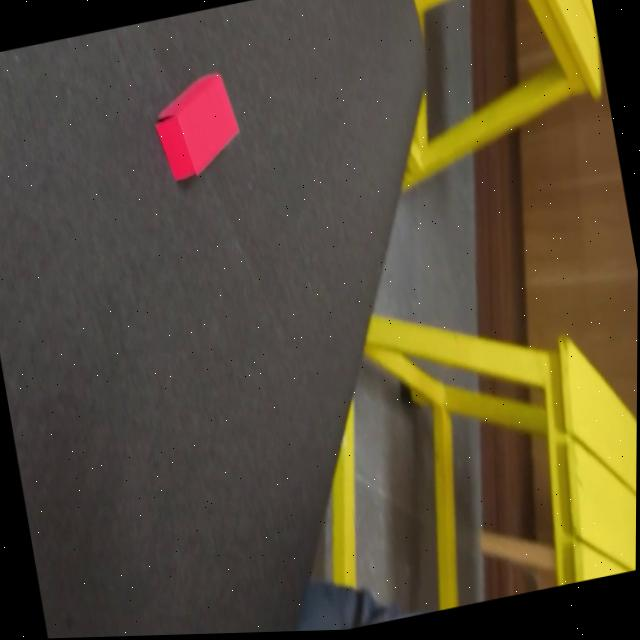red block: (146, 70, 247, 186)
